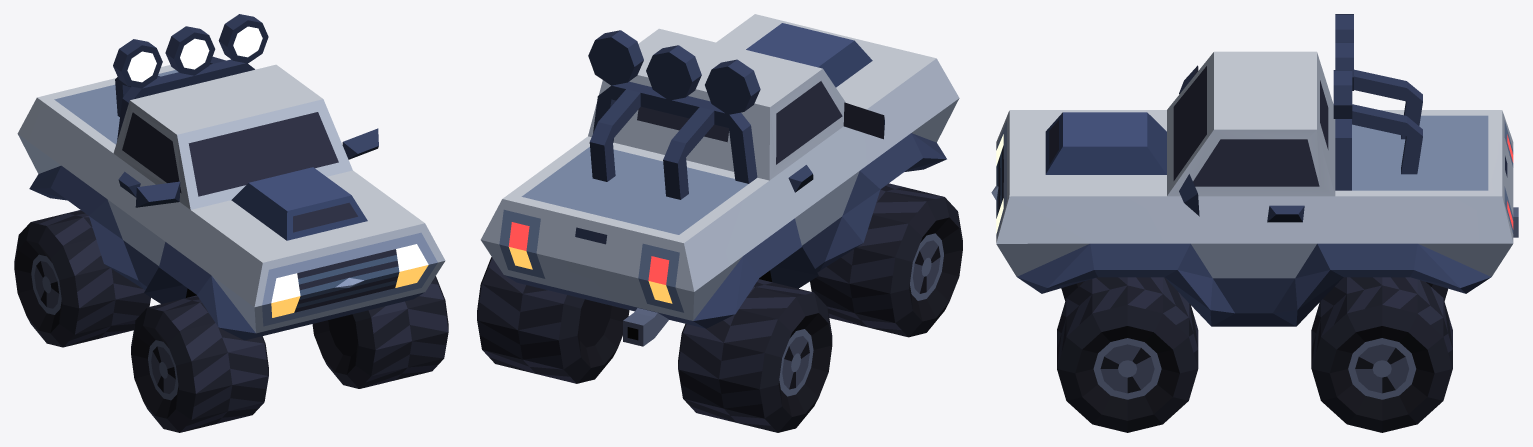
File: pickup-truck.glb
The picture shows the model from 3 angles, left to right: view 1: azimuth 30°, elevation 25°; view 2: azimuth 150°, elevation 25°; view 3: azimuth 270°, elevation 25°; orthographic projection. The views are drawn at different scales.
Parts seen in each view (by area): view 1: body, wheel_off_road, wheel_off_road_2, wheel_off_road_1, hood, rack_lights, railing, mirrors_and_handles; view 2: body, wheel_off_road_2, wheel_off_road, wheel_off_road_3, railing, rack_lights, hood, mirrors_and_handles, exhaust; view 3: body, wheel_off_road_3, wheel_off_road_1, hood, railing, rack_lights, mirrors_and_handles.
Part boxes in pixels (left/top/right/bottom): body: left=17, top=64, right=445, bottom=340; wheel_off_road: left=131, top=295, right=268, bottom=432; wheel_off_road_2: left=14, top=210, right=150, bottom=347; wheel_off_road_1: left=312, top=276, right=448, bottom=388; hood: left=231, top=167, right=367, bottom=240; rack_lights: left=113, top=14, right=268, bottom=88; railing: left=115, top=56, right=254, bottom=140; mirrors_and_handles: left=118, top=128, right=378, bottom=207; body: left=480, top=14, right=959, bottom=328; wheel_off_road_2: left=678, top=279, right=832, bottom=432; wheel_off_road: left=810, top=183, right=962, bottom=337; wheel_off_road_3: left=477, top=257, right=629, bottom=383; railing: left=589, top=81, right=757, bottom=199; rack_lights: left=588, top=30, right=760, bottom=114; hood: left=746, top=23, right=872, bottom=87; mirrors_and_handles: left=788, top=102, right=884, bottom=192; exhaust: left=623, top=308, right=669, bottom=346; body: left=991, top=51, right=1513, bottom=326; wheel_off_road_3: left=1311, top=277, right=1452, bottom=432; wheel_off_road_1: left=1057, top=277, right=1198, bottom=432; hood: left=1045, top=112, right=1166, bottom=174; railing: left=1335, top=69, right=1422, bottom=190; rack_lights: left=1333, top=14, right=1353, bottom=118; mirrors_and_handles: left=1179, top=65, right=1304, bottom=222.
Bounding box in the file's own units: 2.4 × 2.52 × 3.73.
2 materials, 2 textured.
